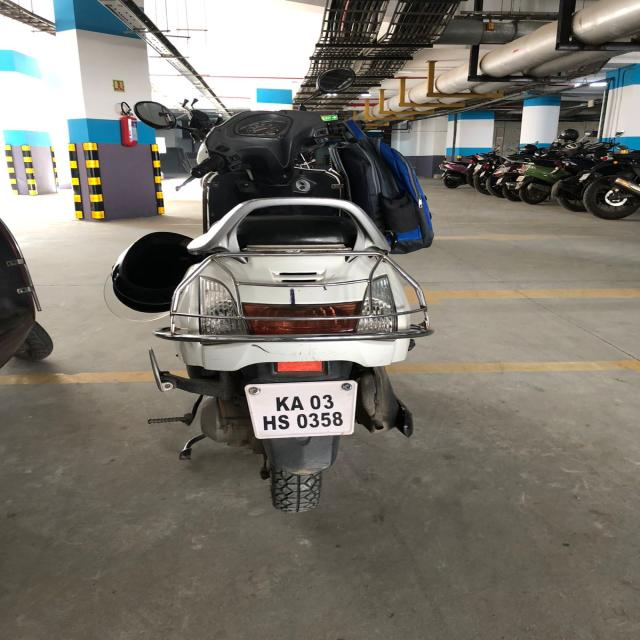number plate: (244, 379, 358, 439)
